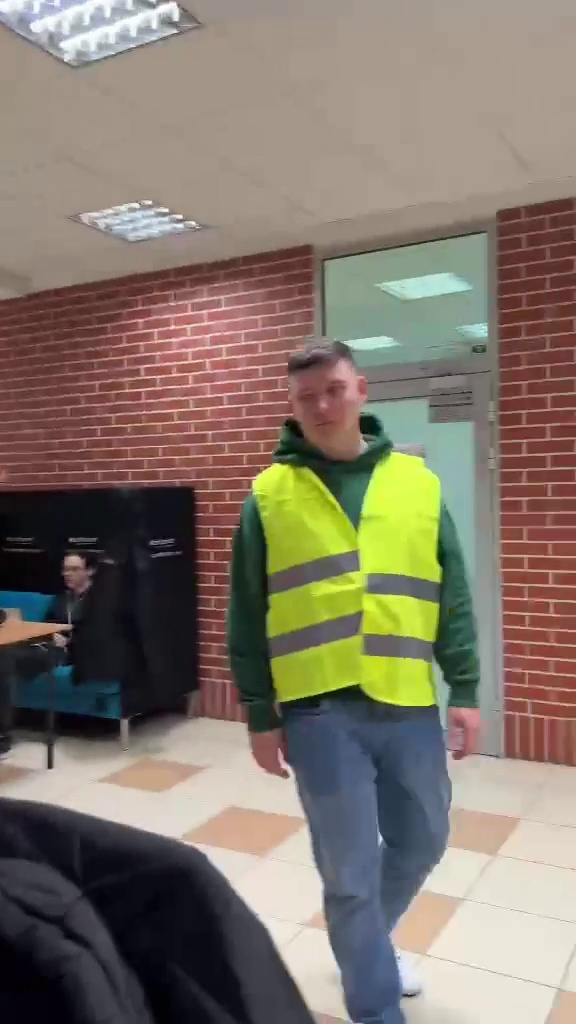vest: (220, 337, 500, 1018)
